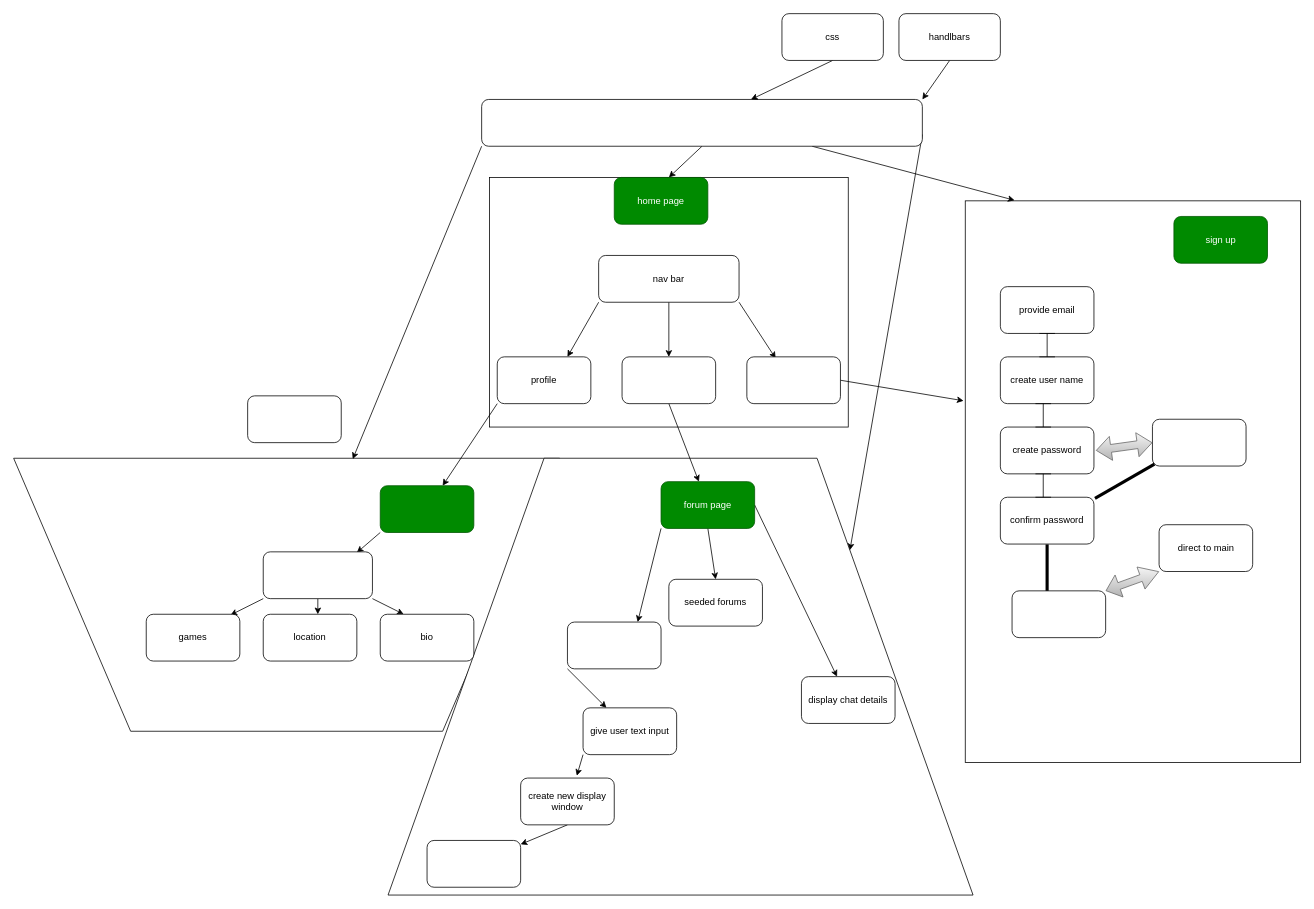
Some shapes in this 1314 by 909 pixel diagram are drawn without their labels. Here are the shapes that lost their labels. From the top down, the centre of each, then its label:
At point 701,122: "html".
At point 668,380: "forums".
At point 793,380: "login / sign up".
At point 1199,442: "if failed fix pw".
At point 426,509: "profile page".
At point 317,575: "edit profile".
At point 1058,614: "create profile page".
At point 614,645: "window that selects chat room".
At point 473,863: "display and save".
